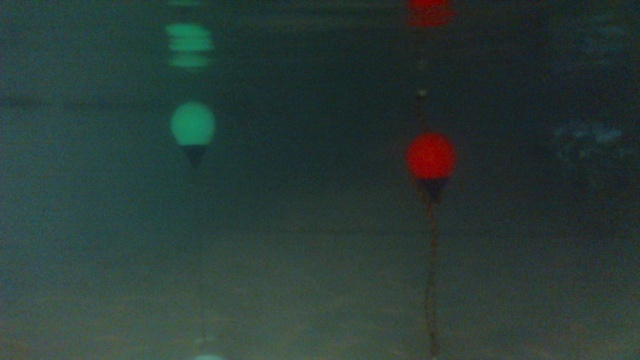buoy_green: (169, 98, 218, 171)
buoy_red: (406, 134, 454, 195)
